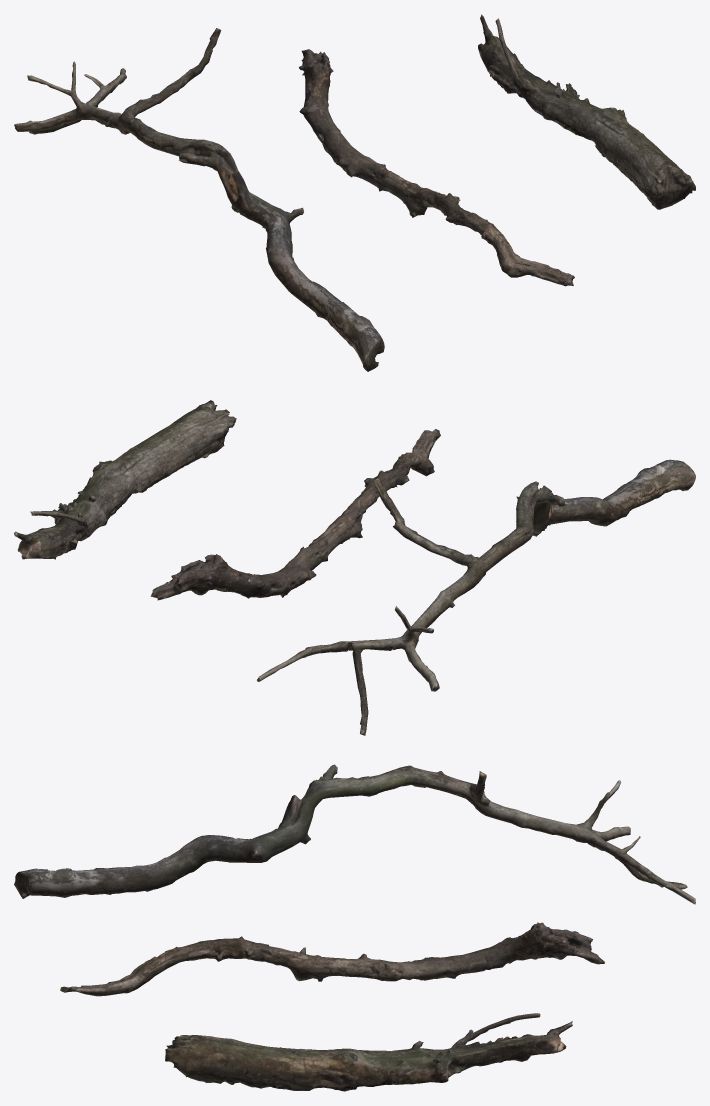
Rendered from dry_branches_medium_01.glb.
The picture shows the model from 3 angles, top to bottom: view 1: azimuth 30°, elevation 25°; view 2: azimuth 150°, elevation 25°; view 3: azimuth 270°, elevation 25°; orthographic projection. The views are drawn at different scales.
Parts seen in each view (by area): view 1: dry_branches_medium_01_a, dry_branches_medium_01_c, dry_branches_medium_01_b; view 2: dry_branches_medium_01_a, dry_branches_medium_01_c, dry_branches_medium_01_b; view 3: dry_branches_medium_01_a, dry_branches_medium_01_c, dry_branches_medium_01_b.
Part boxes in pixels (bbox=[...]): dry_branches_medium_01_a: bbox=[14, 28, 384, 371]; dry_branches_medium_01_c: bbox=[478, 14, 695, 209]; dry_branches_medium_01_b: bbox=[299, 49, 574, 286]; dry_branches_medium_01_a: bbox=[257, 459, 695, 735]; dry_branches_medium_01_c: bbox=[14, 400, 236, 559]; dry_branches_medium_01_b: bbox=[150, 429, 440, 600]; dry_branches_medium_01_a: bbox=[14, 764, 695, 904]; dry_branches_medium_01_c: bbox=[165, 1013, 572, 1091]; dry_branches_medium_01_b: bbox=[60, 922, 604, 996].
Bounding box in the file's own units: 1.06 × 0.341 × 1.3.
Materials: 1 (1 with a texture image).
